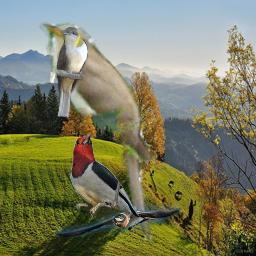Cuckoo: (35, 17, 157, 244), (55, 27, 88, 117)
Swallow: (56, 204, 182, 237)
Woodpecker: (67, 130, 145, 228)
